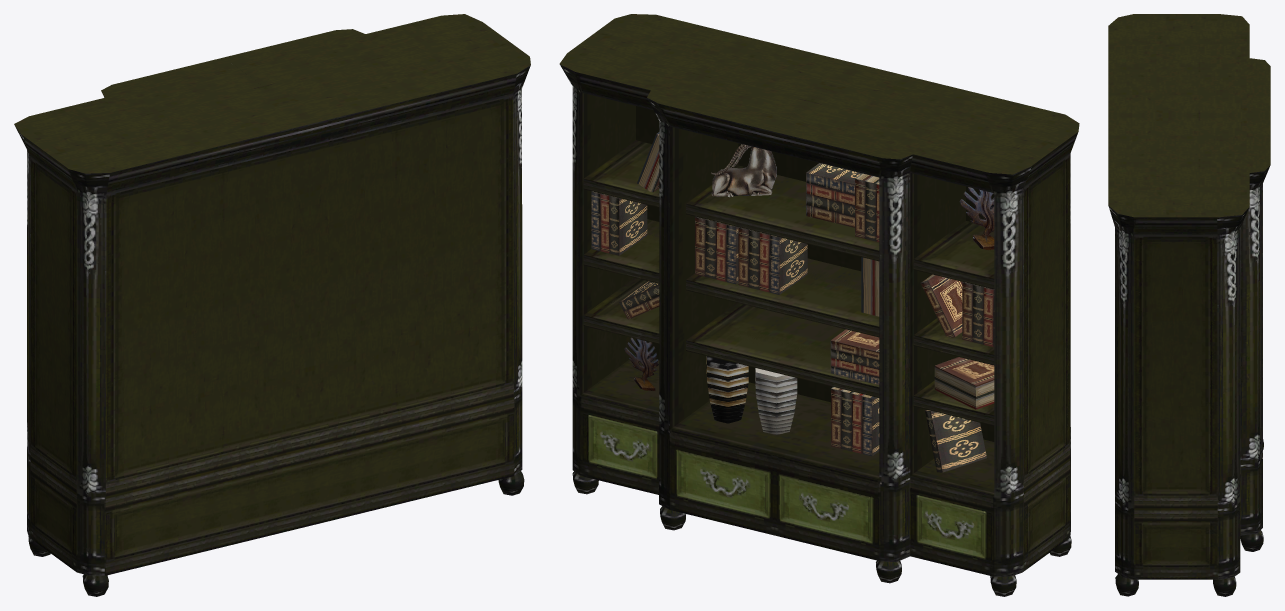
The model's file is furni_0201219_03.FBX.
The picture shows the model from 3 angles, left to right: view 1: azimuth 30°, elevation 25°; view 2: azimuth 150°, elevation 25°; view 3: azimuth 270°, elevation 25°; orthographic projection. The views are drawn at different scales.
Visible parts, largest first — view 1: furni_0201219_03; view 2: furni_0201219_03; view 3: furni_0201219_03.
Part boxes in pixels (box(x1,y1,x2,y2)): furni_0201219_03: box(14, 14, 530, 596); furni_0201219_03: box(559, 14, 1079, 596); furni_0201219_03: box(1108, 14, 1270, 596).
Size of the model in its own units: 249 by 220 by 84.03.
